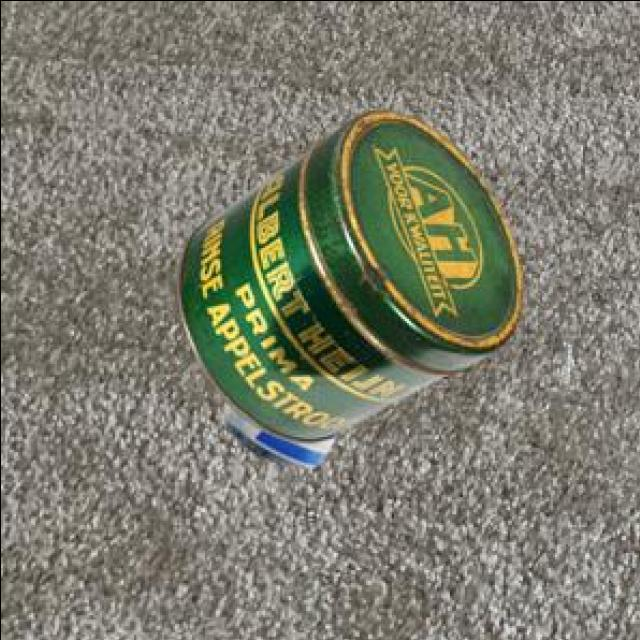logam: (173, 106, 519, 439), (222, 401, 332, 465)
